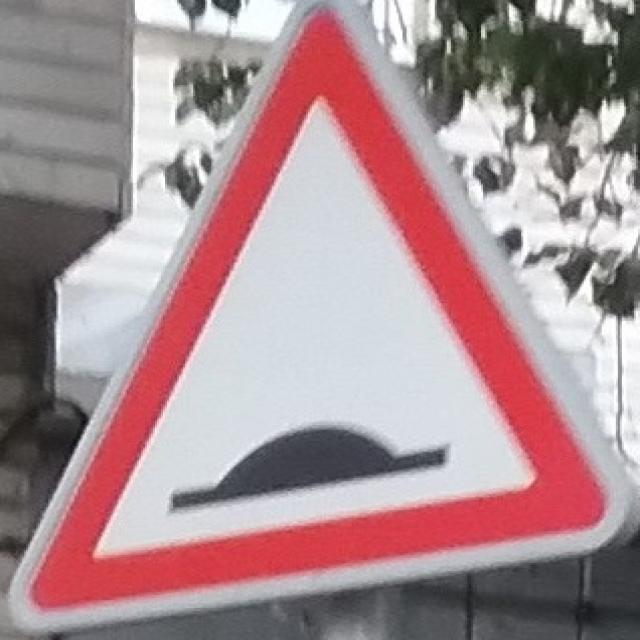HUMP_OR_ROUGH_ROAD: (23, 14, 617, 616)
